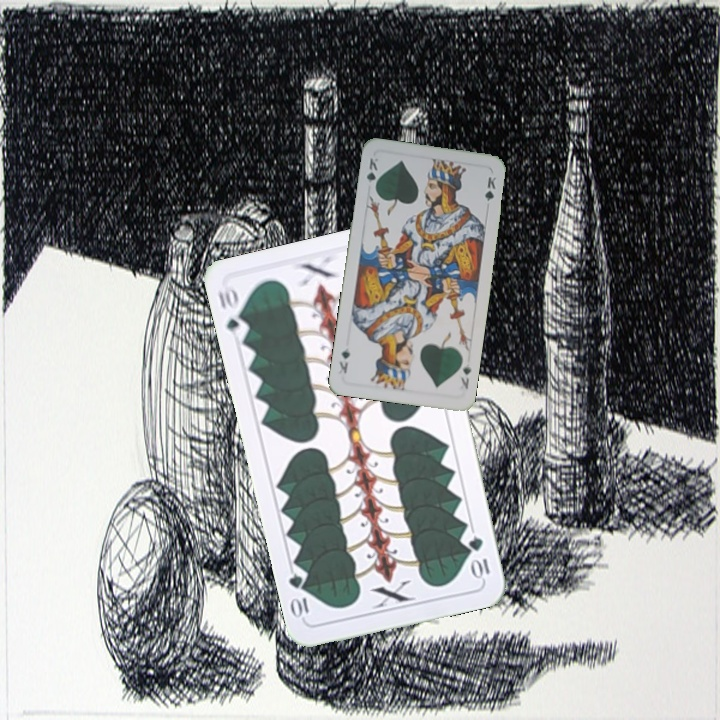G10: (214, 283, 251, 340), (464, 532, 493, 582)
GK: (362, 154, 381, 193), (455, 359, 474, 392)
